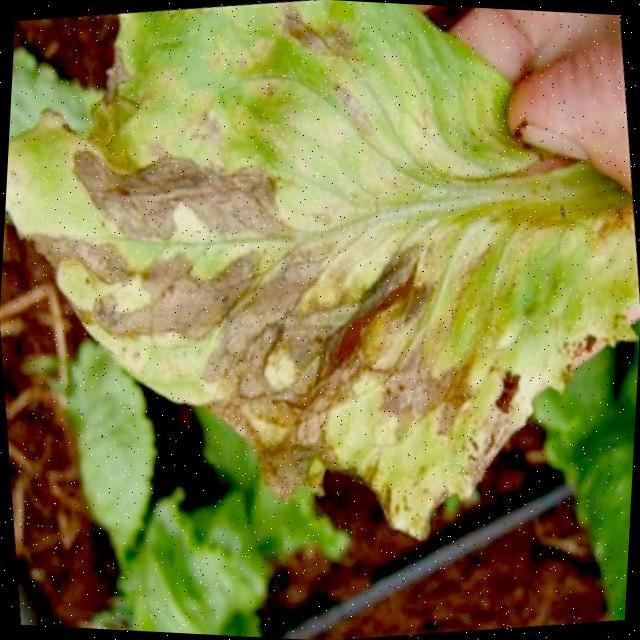Bacterial: (177, 135, 466, 437)
